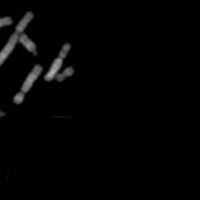chromosome: (0, 10, 33, 67), (13, 63, 41, 104), (44, 44, 69, 82), (20, 33, 38, 54), (56, 66, 75, 82), (0, 17, 12, 30), (0, 103, 6, 116)
